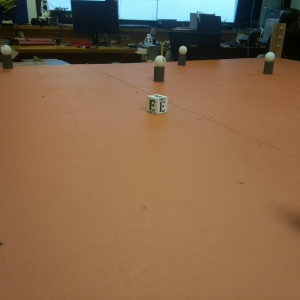blockE: (146, 93, 169, 115)
corner: (272, 22, 285, 59)
obstacle: (152, 54, 166, 82), (1, 45, 13, 69), (263, 52, 274, 75), (177, 44, 188, 66)
